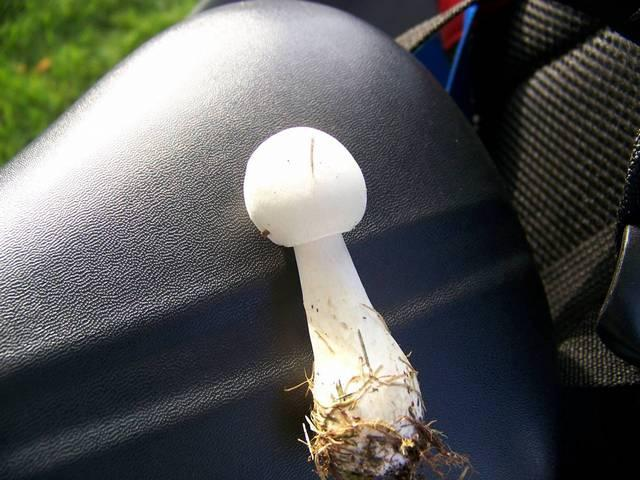poisonous_mushroom: (241, 124, 428, 478)
